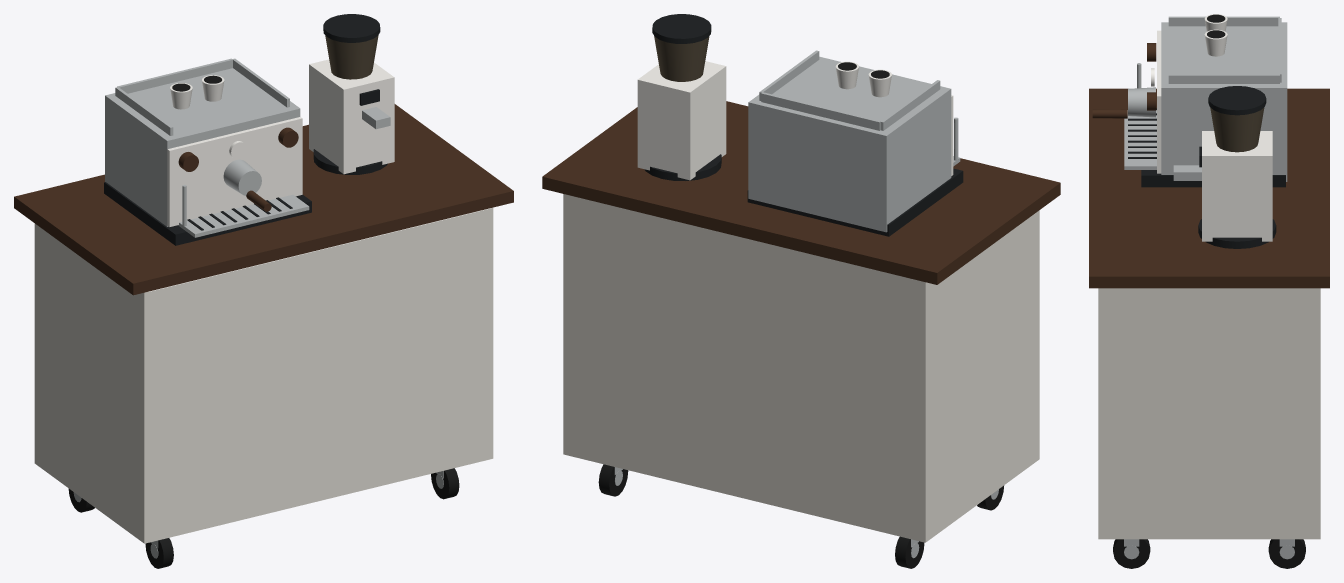
File: eywa-bar-v1.glb
3 renders of one model, left to right at view 1: azimuth 30°, elevation 25°; view 2: azimuth 150°, elevation 25°; view 3: azimuth 270°, elevation 25°, orthographic. The views are drawn at different scales.
Visible parts, largest first — view 1: BAR_FRONT, COUNTERTOP, BAR_LEFT, ESPRESSO_MACHINE, MACHINE_FACE, GRINDER_BODY, DRIP_TRAY, MACHINE_BASE, GRINDER_HOPPER, GRINDER_LID, CUP_RAIL (×2), CUP_RAIL_BACK (+2 smaller); view 2: BODY, COUNTERTOP, BAR_LEFT, ESPRESSO_MACHINE, GRINDER_BODY, GRINDER_HOPPER, MACHINE_BASE, GRINDER_LID, CUP_RAIL (×2), CUP_RAIL_BACK, GRINDER_BASE; view 3: BAR_RIGHT, COUNTERTOP, ESPRESSO_MACHINE, GRINDER_BODY, CUP_RAIL (×2), GRINDER_HOPPER, DRIP_TRAY, WHEELS (×2), GRINDER_LID, MACHINE_BASE, GRINDER_BASE, MACHINE_FACE (+4 smaller).
Boxes of the visible parts, x1=… form: BAR_FRONT: x1=144, y1=207, x2=493, y2=543; COUNTERTOP: x1=14, y1=104, x2=513, y2=295; BAR_LEFT: x1=34, y1=223, x2=144, y2=543; ESPRESSO_MACHINE: x1=105, y1=68, x2=300, y2=226; MACHINE_FACE: x1=167, y1=117, x2=302, y2=226; GRINDER_BODY: x1=309, y1=59, x2=394, y2=174; DRIP_TRAY: x1=178, y1=194, x2=309, y2=237; MACHINE_BASE: x1=104, y1=182, x2=311, y2=245; GRINDER_HOPPER: x1=325, y1=35, x2=378, y2=79; GRINDER_LID: x1=323, y1=14, x2=380, y2=42; CUP_RAIL (×2): x1=115, y1=58, x2=289, y2=135; CUP_RAIL_BACK: x1=117, y1=58, x2=232, y2=93; BODY: x1=563, y1=194, x2=925, y2=542; COUNTERTOP: x1=542, y1=101, x2=1060, y2=284; BAR_LEFT: x1=925, y1=210, x2=1039, y2=542; ESPRESSO_MACHINE: x1=748, y1=56, x2=951, y2=232; GRINDER_BODY: x1=637, y1=61, x2=726, y2=180; GRINDER_HOPPER: x1=654, y1=36, x2=709, y2=81; MACHINE_BASE: x1=747, y1=168, x2=963, y2=236; GRINDER_LID: x1=652, y1=14, x2=711, y2=43; CUP_RAIL (×2): x1=759, y1=50, x2=940, y2=130; CUP_RAIL_BACK: x1=761, y1=92, x2=880, y2=130; GRINDER_BASE: x1=644, y1=154, x2=721, y2=180; BAR_RIGHT: x1=1098, y1=288, x2=1320, y2=539; COUNTERTOP: x1=1089, y1=88, x2=1329, y2=288; ESPRESSO_MACHINE: x1=1161, y1=22, x2=1287, y2=181; GRINDER_BODY: x1=1202, y1=131, x2=1272, y2=241; CUP_RAIL (×2): x1=1168, y1=16, x2=1279, y2=83; GRINDER_HOPPER: x1=1210, y1=107, x2=1264, y2=152; DRIP_TRAY: x1=1124, y1=110, x2=1156, y2=169; WHEELS (×2): x1=1113, y1=539, x2=1305, y2=568; GRINDER_LID: x1=1208, y1=86, x2=1266, y2=115; MACHINE_BASE: x1=1141, y1=108, x2=1285, y2=187; GRINDER_BASE: x1=1198, y1=219, x2=1276, y2=248; MACHINE_FACE: x1=1157, y1=30, x2=1161, y2=173.
Bounding box in the file's own units: 1.2 × 1.33 × 0.65.
